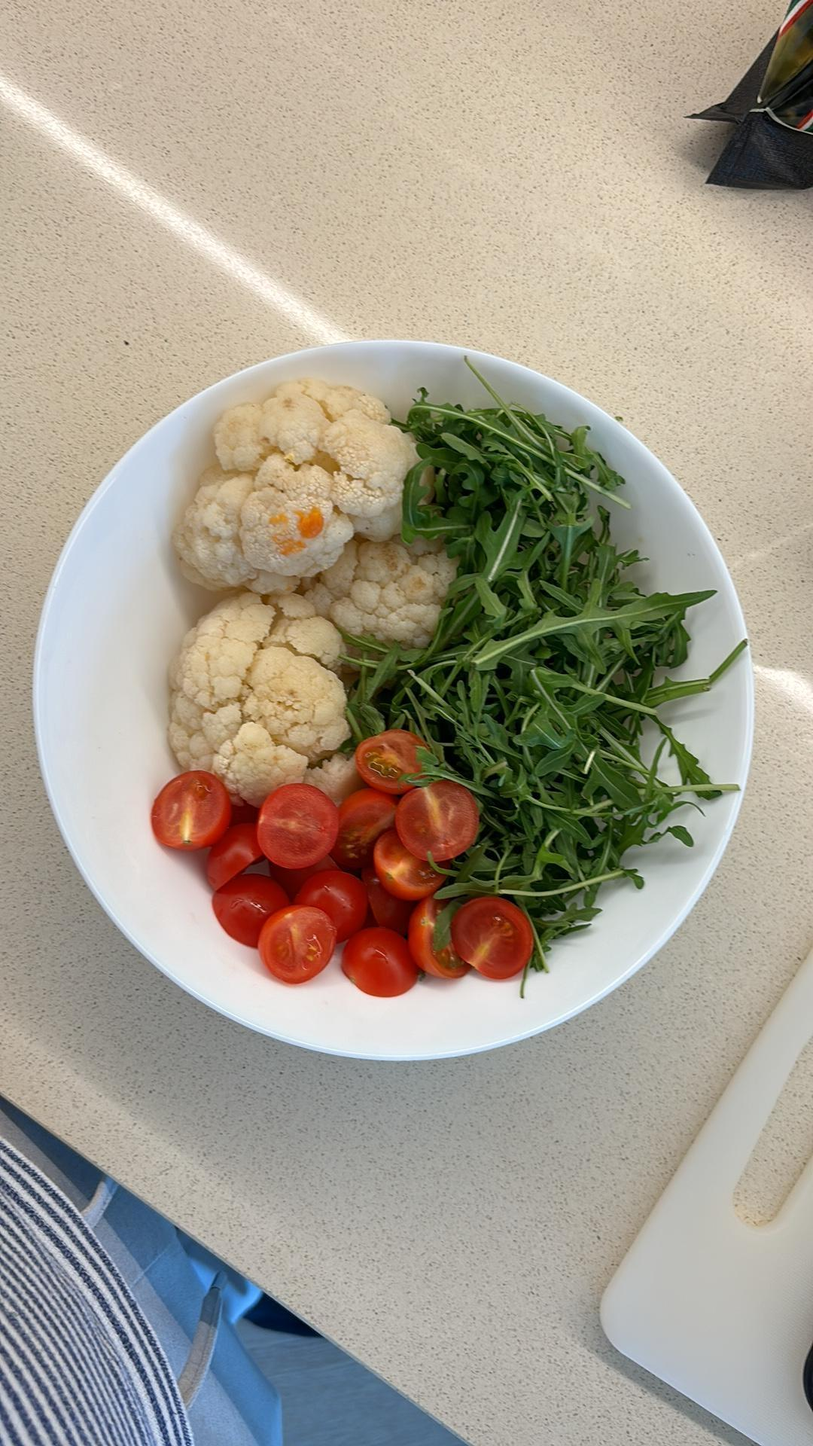cauliflower: (162, 589, 373, 807), (165, 464, 321, 597), (314, 409, 443, 541), (314, 527, 451, 648), (221, 376, 393, 471), (244, 465, 356, 578)
lettuce: (404, 395, 612, 490), (482, 579, 691, 669), (525, 676, 639, 799), (467, 612, 693, 670), (579, 640, 744, 718), (527, 471, 631, 561), (405, 668, 516, 752), (489, 782, 638, 844), (481, 683, 585, 768), (426, 454, 519, 538), (353, 640, 435, 729), (498, 852, 644, 889), (539, 506, 594, 593), (470, 529, 548, 586)
tomato: (251, 783, 355, 869), (256, 899, 346, 990), (453, 899, 542, 984), (144, 763, 230, 847), (344, 922, 432, 1002), (371, 824, 463, 900), (397, 779, 481, 860), (258, 782, 338, 865), (325, 791, 404, 874), (292, 866, 371, 944), (223, 871, 291, 943), (420, 888, 469, 979), (207, 816, 256, 896), (359, 737, 428, 783)
